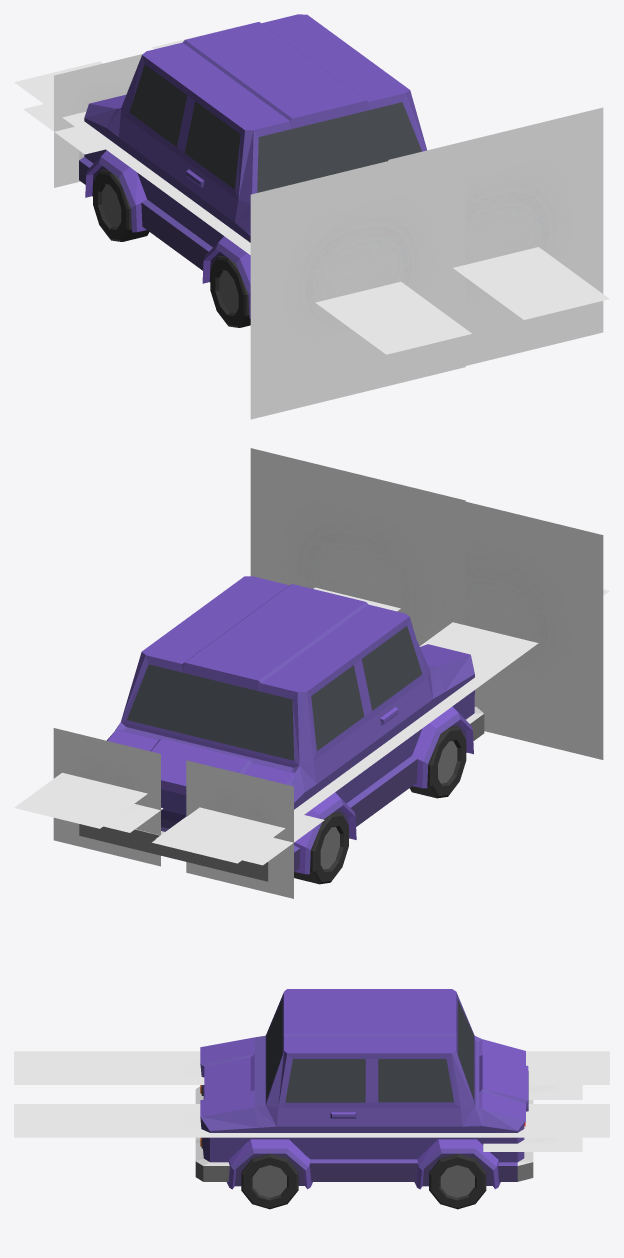
File: LittleCab.fbx
The picture shows the model from 3 angles, top to bottom: view 1: azimuth 30°, elevation 25°; view 2: azimuth 150°, elevation 25°; view 3: azimuth 270°, elevation 25°; orthographic projection. The views are drawn at different scales.
Visible parts, largest first — view 1: StopLightBillboard (×6), BodyMesh, Wheel (×2); view 2: StopLightBillboard (×8), BodyMesh, Wheel (×2); view 3: BodyMesh, StopLightBillboard (×4), Wheel (×2).
Part boxes in pixels (left/top/right/bottom): StopLightBillboard (×6): left=14, top=26, right=609, bottom=419; BodyMesh: left=79, top=14, right=426, bottom=318; Wheel (×2): left=93, top=170, right=250, bottom=327; StopLightBillboard (×8): left=14, top=448, right=609, bottom=898; BodyMesh: left=79, top=576, right=484, bottom=881; Wheel (×2): left=294, top=726, right=466, bottom=884; BodyMesh: left=195, top=989, right=533, bottom=1189; StopLightBillboard (×4): left=14, top=1051, right=609, bottom=1151; Wheel (×2): left=241, top=1153, right=486, bottom=1209.
Size of the model in its own units: 1.64 by 1 by 3.
Materials: 3 (3 with a texture image).
